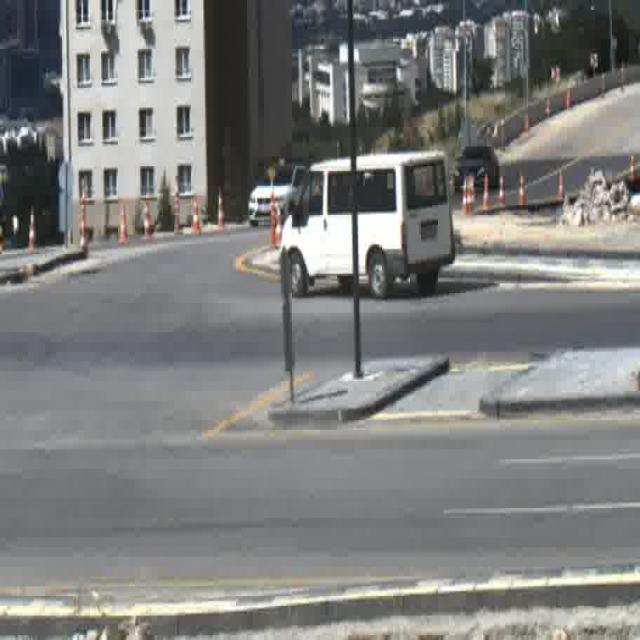Car: (280, 152, 454, 294), (247, 164, 310, 226), (454, 145, 500, 192)
